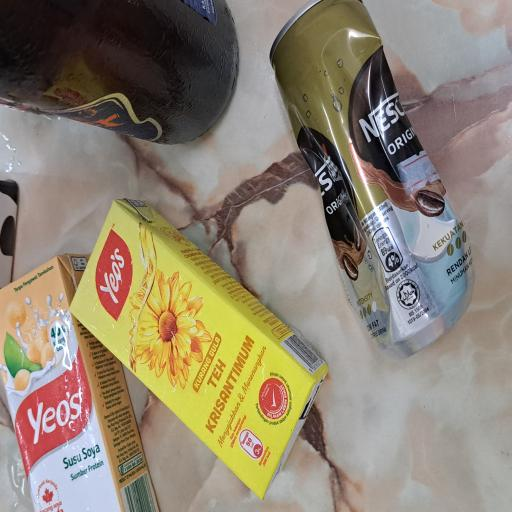can: (115, 359, 383, 512)
drink carton: (11, 92, 238, 440), (0, 0, 196, 214)
glass bottle: (278, 0, 384, 321)
